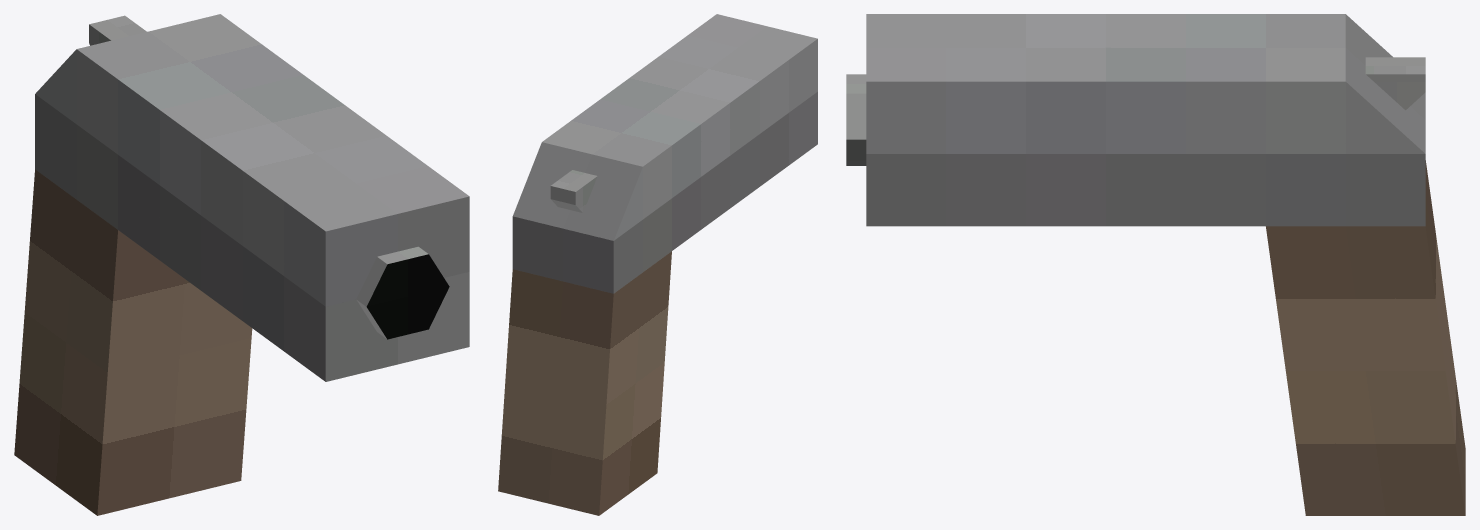
Rendered from pistol.obj.
The picture shows the model from 3 angles, left to right: view 1: azimuth 30°, elevation 25°; view 2: azimuth 150°, elevation 25°; view 3: azimuth 270°, elevation 25°; orthographic projection. The views are drawn at different scales.
Parts seen in each view (by area): view 1: group_4, group_2, group_0, group_1, group_5; view 2: group_2, group_4, group_0, group_5; view 3: group_4, group_2, group_0, group_5, group_1.
Part boxes in pixels (left/top/right/bottom): group_4: left=35, top=14, right=469, bottom=306; group_2: left=14, top=169, right=252, bottom=515; group_0: left=35, top=94, right=469, bottom=381; group_1: left=356, top=246, right=449, bottom=339; group_5: left=89, top=15, right=146, bottom=45; group_2: left=498, top=251, right=671, bottom=515; group_4: left=513, top=14, right=817, bottom=240; group_0: left=512, top=91, right=817, bottom=293; group_5: left=550, top=170, right=597, bottom=212; group_4: left=866, top=14, right=1425, bottom=153; group_2: left=1266, top=160, right=1465, bottom=515; group_0: left=866, top=154, right=1425, bottom=226; group_5: left=1365, top=57, right=1425, bottom=110; group_1: left=846, top=74, right=866, bottom=165.
Bounding box in the file's own units: 0.125 × 0.375 × 0.4844.
